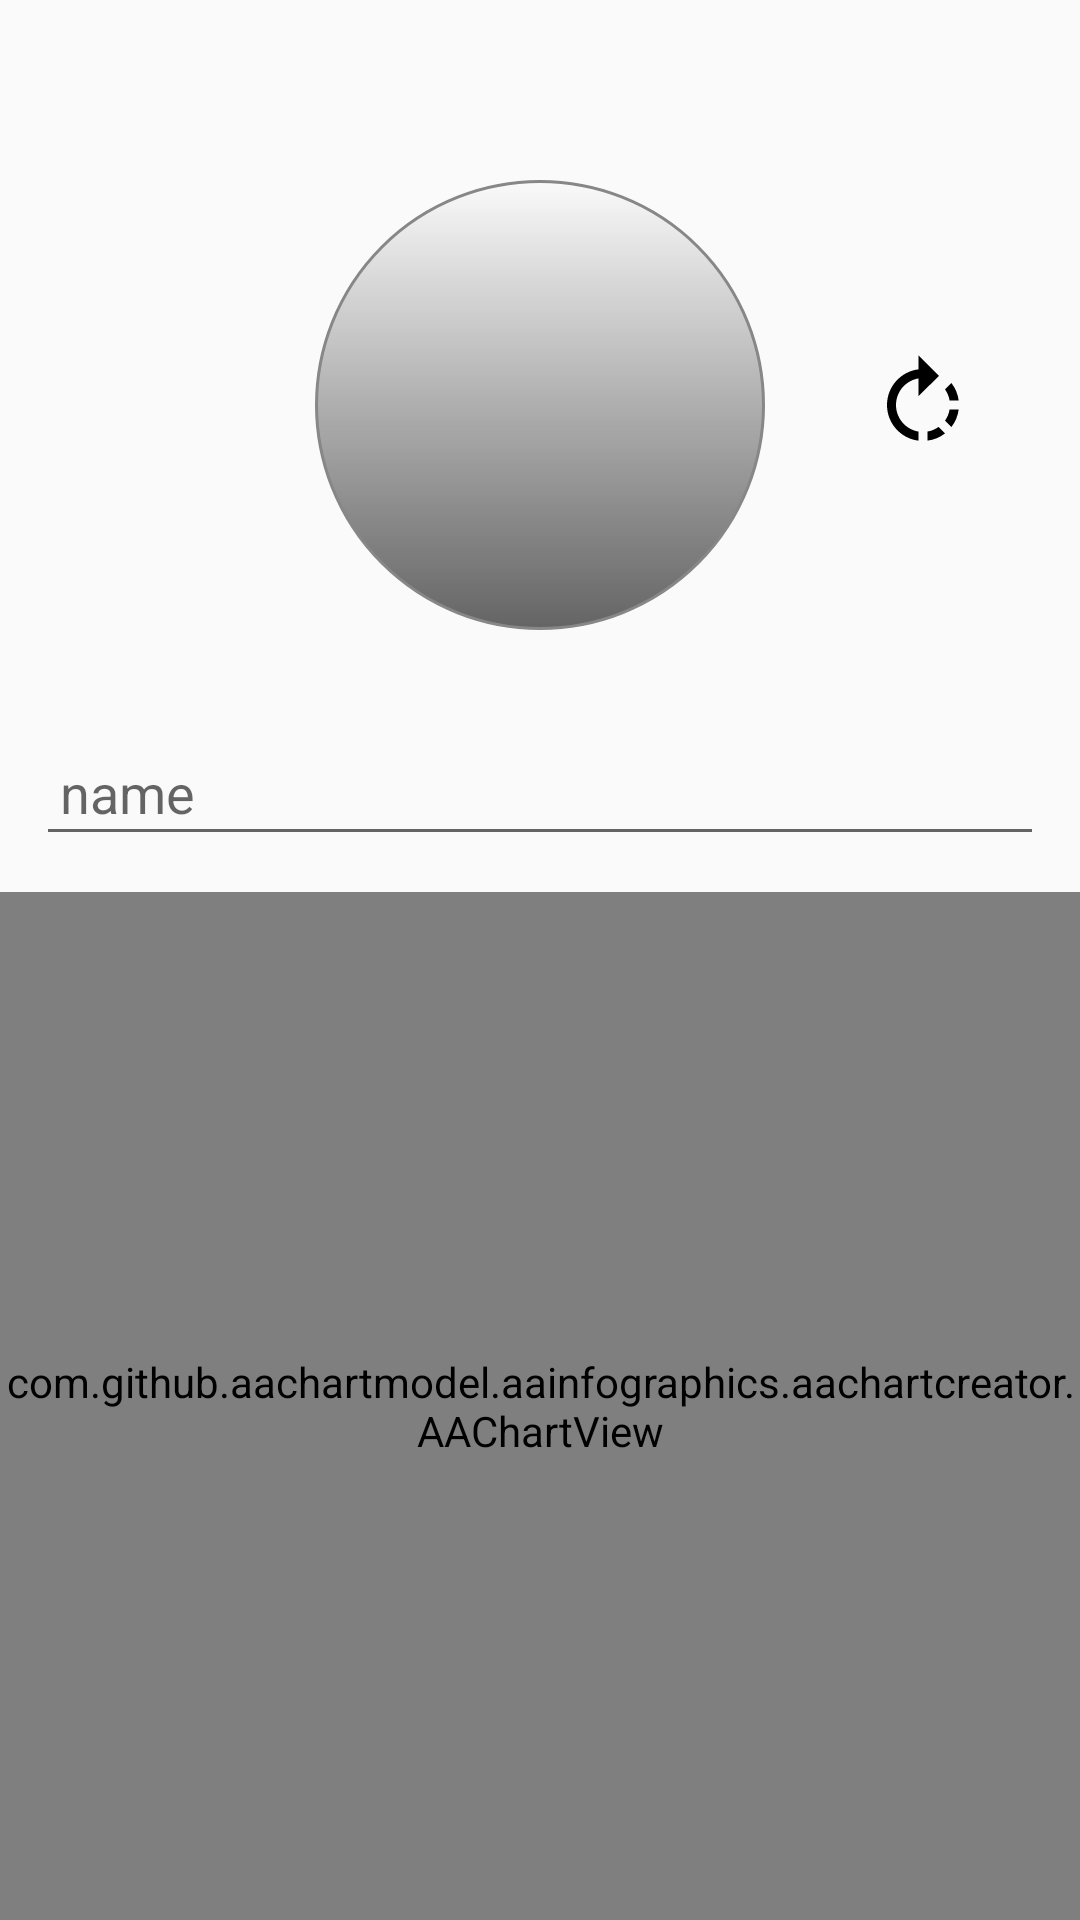

Screen size 1080w x 1920h. Icon name, then its box in pixels as (x1=x1, y1=y1, x2=x2, y2=y2):
rotate right: (x1=887, y1=355, x2=959, y2=441)
